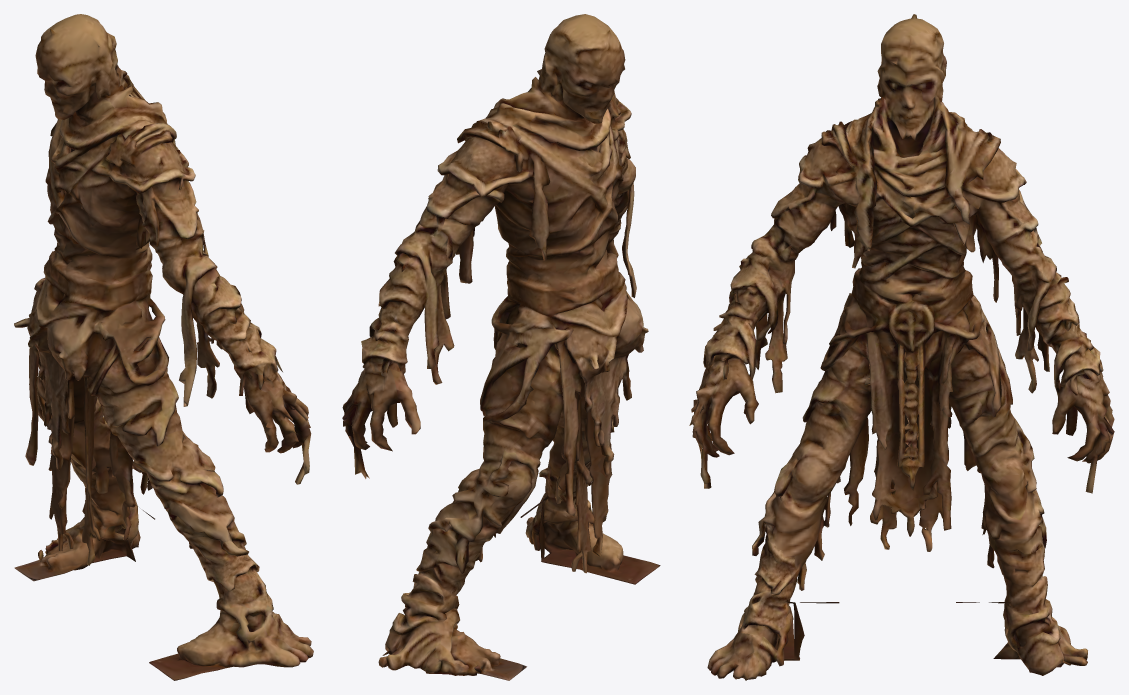
The model's file is desert-titan.glb.
The picture shows the model from 3 angles, left to right: view 1: azimuth 30°, elevation 25°; view 2: azimuth 150°, elevation 25°; view 3: azimuth 270°, elevation 25°; orthographic projection. The views are drawn at different scales.
Visible parts, largest first — view 1: tripo_node_d4f8b1e5-4403-4b4d-aa34-ce408bbdc906; view 2: tripo_node_d4f8b1e5-4403-4b4d-aa34-ce408bbdc906; view 3: tripo_node_d4f8b1e5-4403-4b4d-aa34-ce408bbdc906.
Part boxes in pixels (<box>): tripo_node_d4f8b1e5-4403-4b4d-aa34-ce408bbdc906: <box>14,14,313,680</box>; tripo_node_d4f8b1e5-4403-4b4d-aa34-ce408bbdc906: <box>342,14,660,680</box>; tripo_node_d4f8b1e5-4403-4b4d-aa34-ce408bbdc906: <box>689,14,1114,680</box>.
Size of the model in its own units: 0.3233 by 1 by 0.6458.
Materials: 1 (1 with a texture image).
